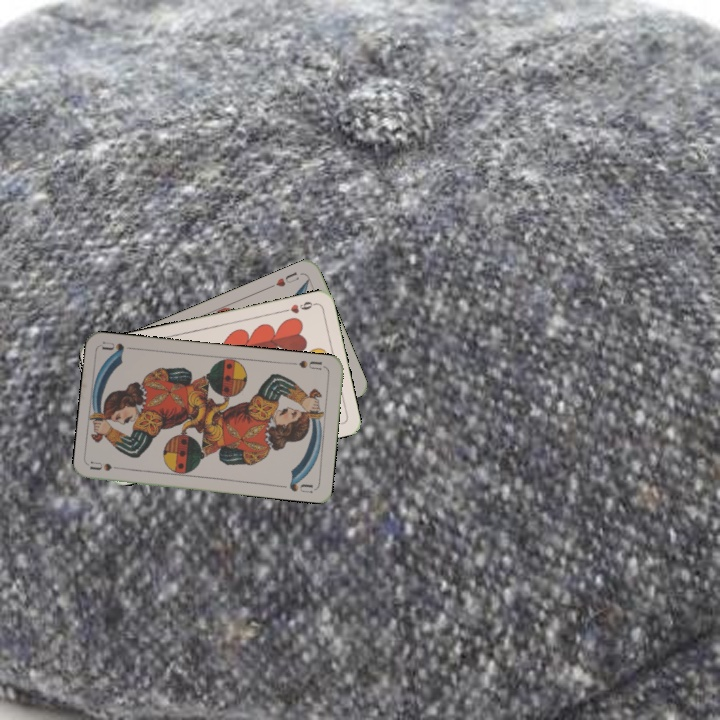H9: (278, 297, 318, 316)
HU: (272, 268, 301, 289)
SU: (288, 356, 328, 372), (87, 458, 128, 473)
